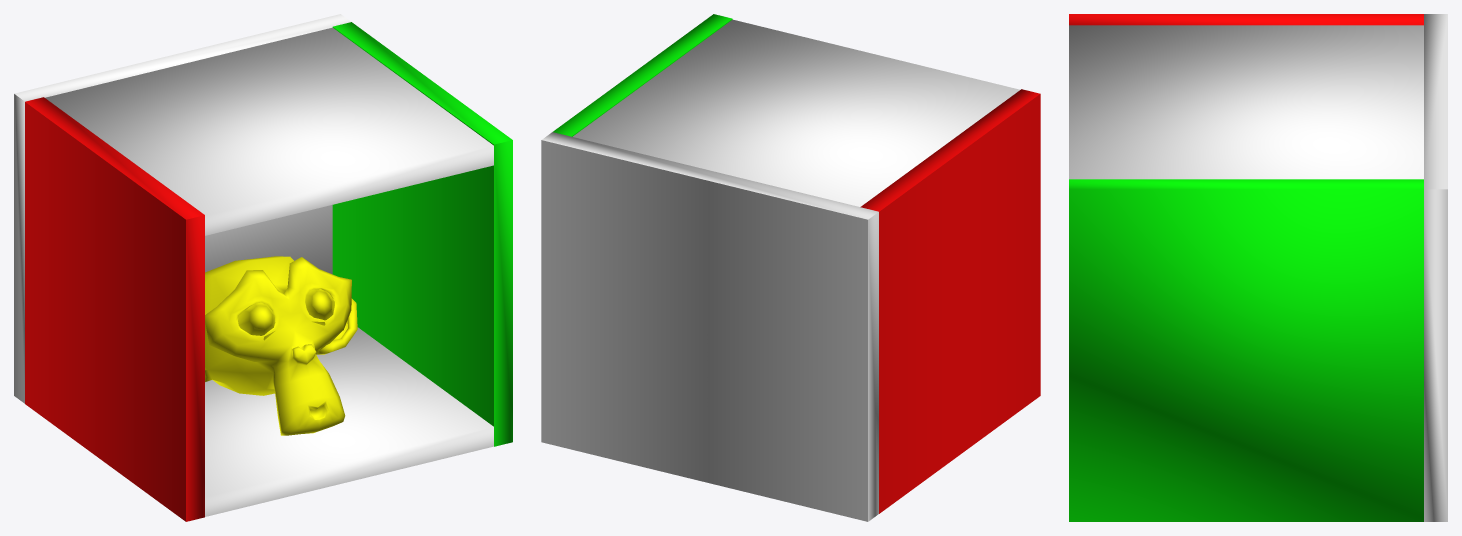
Rendered from cornell-box.glb.
The picture shows the model from 3 angles, left to right: view 1: azimuth 30°, elevation 25°; view 2: azimuth 150°, elevation 25°; view 3: azimuth 270°, elevation 25°; orthographic projection. The views are drawn at different scales.
Parts seen in each view (by area): view 1: RedWall, Ceiling, GreenWall, Floor, Suzanne, WhiteWall; view 2: WhiteWall, RedWall, Ceiling, GreenWall; view 3: GreenWall, Ceiling, WhiteWall, RedWall.
Boxes of the visible parts, x1,y1,x2,y2 form: RedWall: [25, 97, 204, 521]; Ceiling: [45, 27, 493, 235]; GreenWall: [332, 22, 512, 446]; Floor: [205, 327, 493, 516]; Suzanne: [205, 256, 357, 435]; WhiteWall: [14, 14, 350, 403]; WhiteWall: [541, 132, 878, 521]; RedWall: [860, 89, 1040, 513]; Ceiling: [573, 19, 1020, 206]; GreenWall: [553, 14, 732, 136]; GreenWall: [1069, 179, 1423, 521]; Ceiling: [1069, 25, 1423, 179]; WhiteWall: [1424, 14, 1447, 521]; RedWall: [1069, 14, 1423, 25].
Bounding box in the file's own units: 2.26 × 2 × 2.07.
